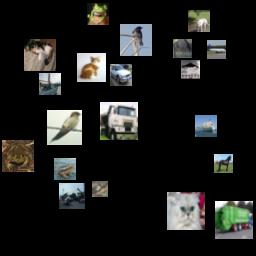airplane: (181, 60, 200, 79), (207, 40, 226, 59)
automobile: (110, 64, 132, 86)
bird: (47, 110, 82, 145), (120, 24, 152, 56), (92, 181, 108, 197)
cat: (167, 192, 205, 230), (24, 39, 56, 71), (77, 53, 106, 82)
dog: (188, 10, 210, 32)
frog: (2, 140, 34, 172), (54, 158, 76, 180), (87, 3, 109, 25)
ship: (195, 115, 217, 137), (39, 73, 61, 95)
truck: (100, 102, 138, 140), (215, 201, 253, 239), (59, 183, 85, 209)
